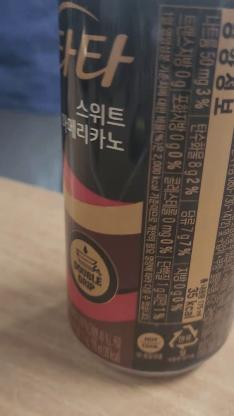Can: (58, 3, 234, 384)
